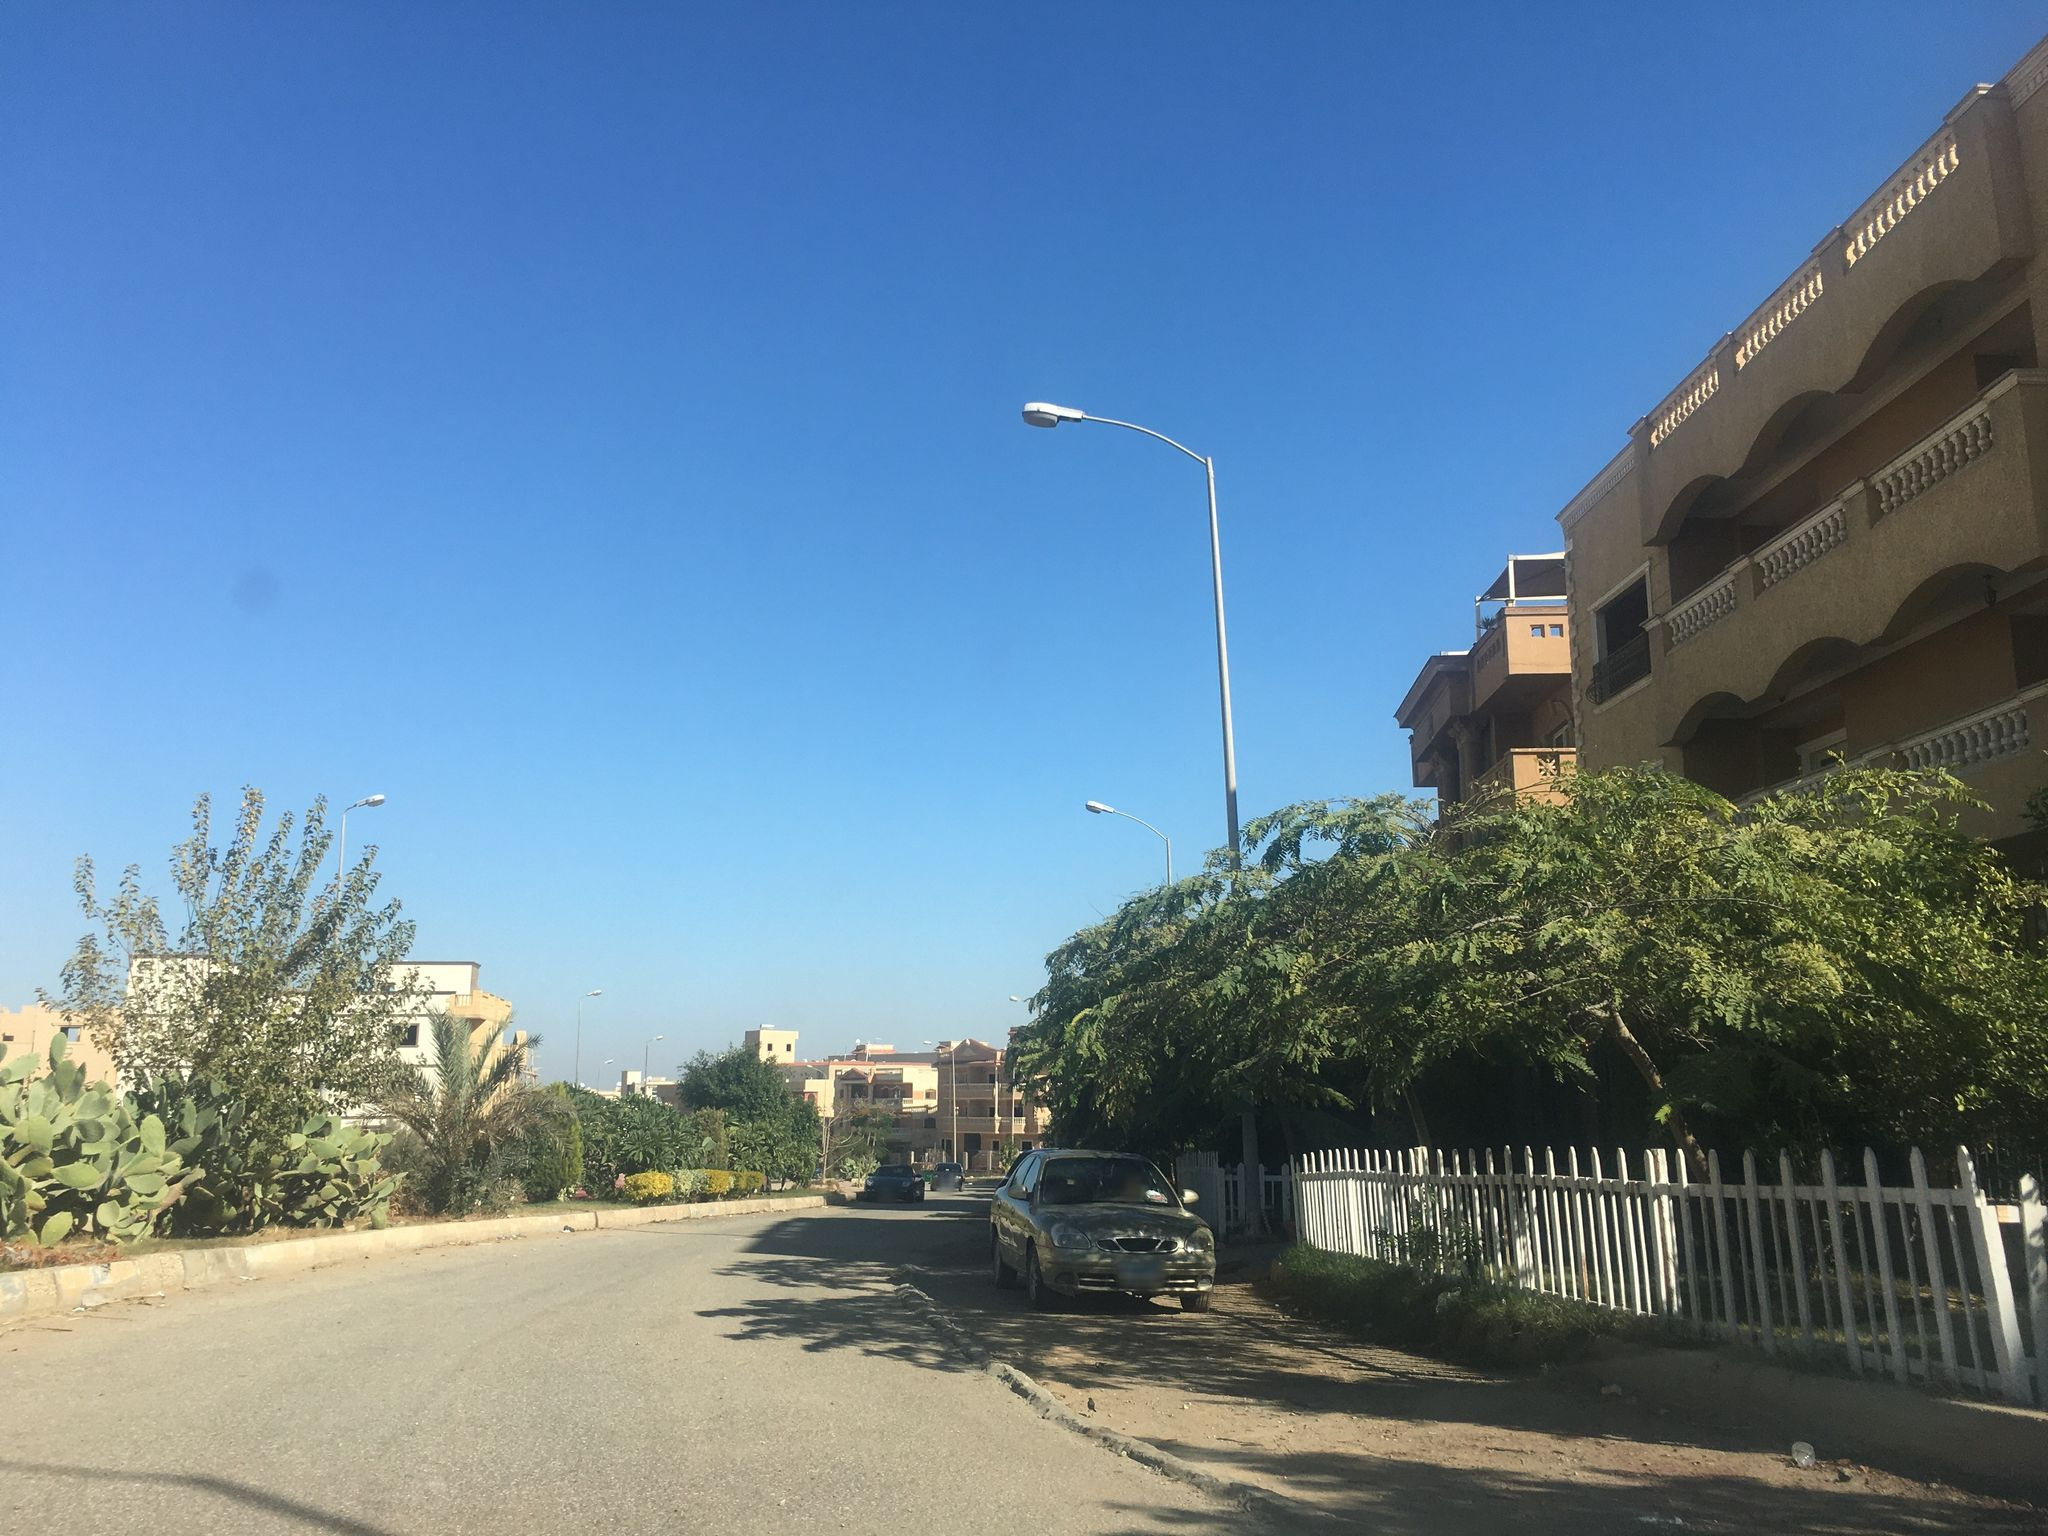car: (989, 1146, 1218, 1309), (864, 1163, 926, 1202), (929, 1162, 964, 1191)
